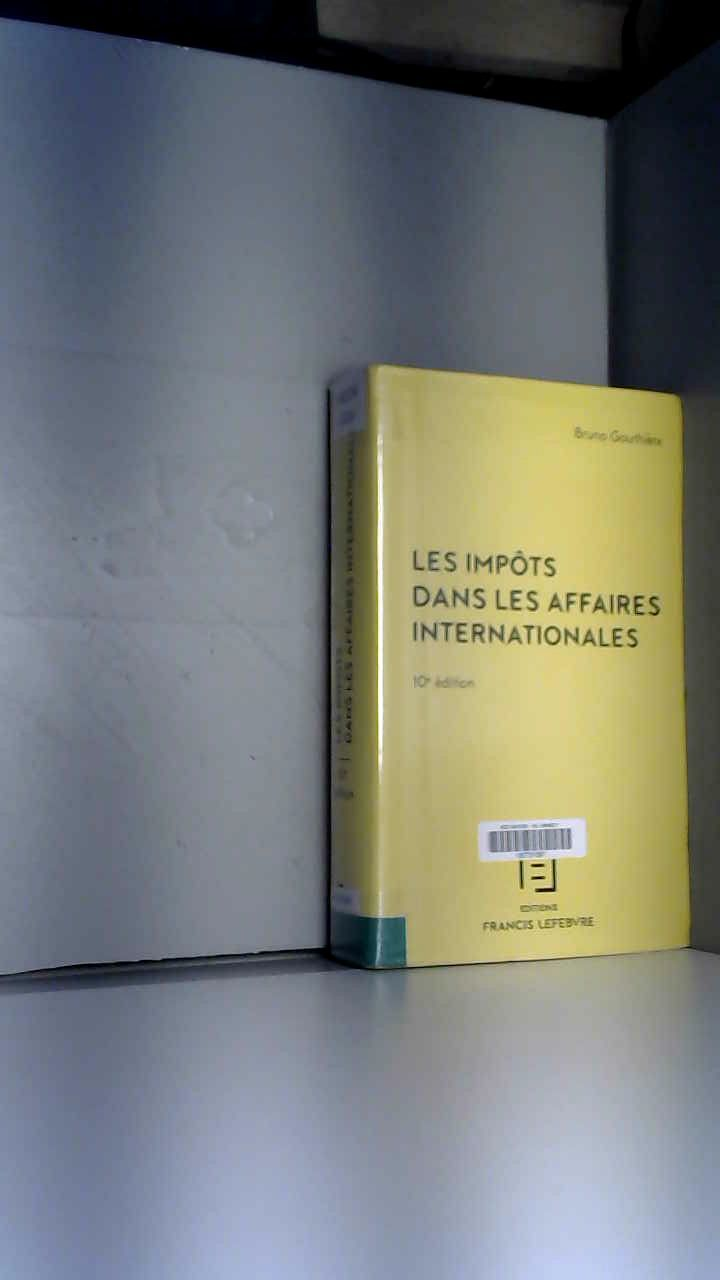book: (268, 331, 720, 998)
